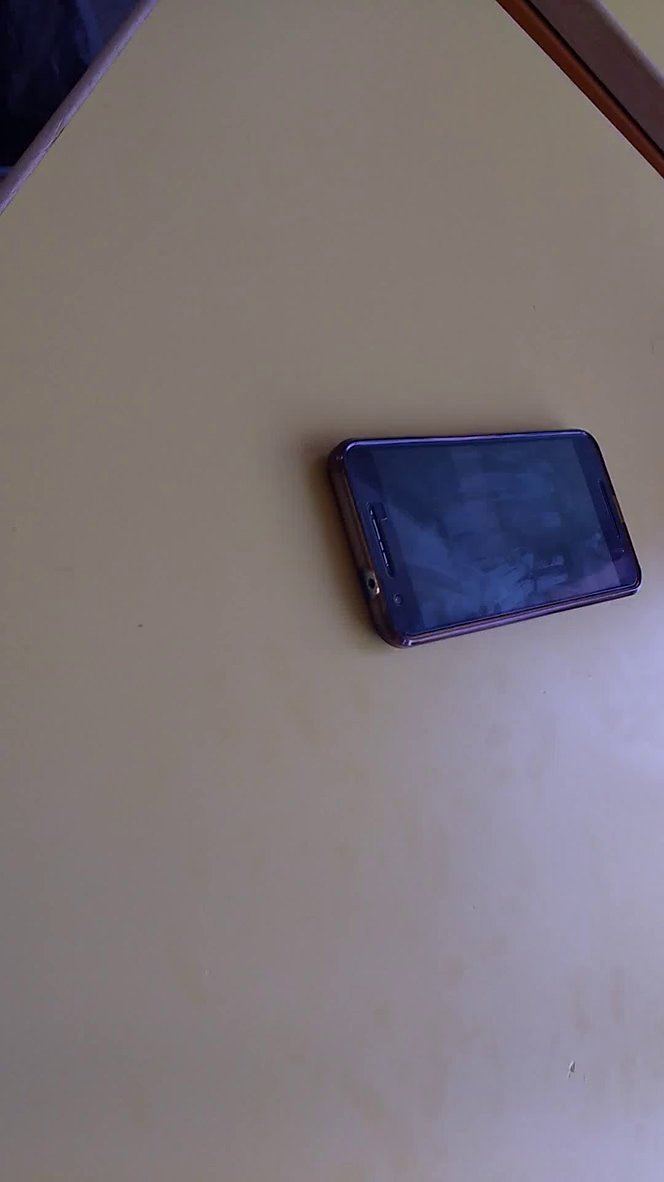phone: (315, 407, 651, 663)
